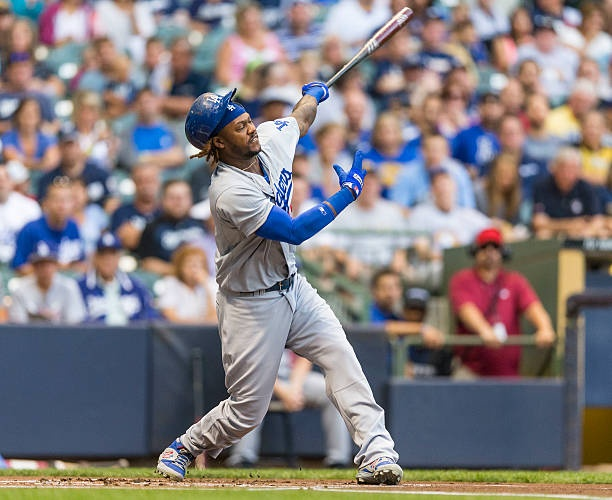bita: (319, 9, 415, 93)
